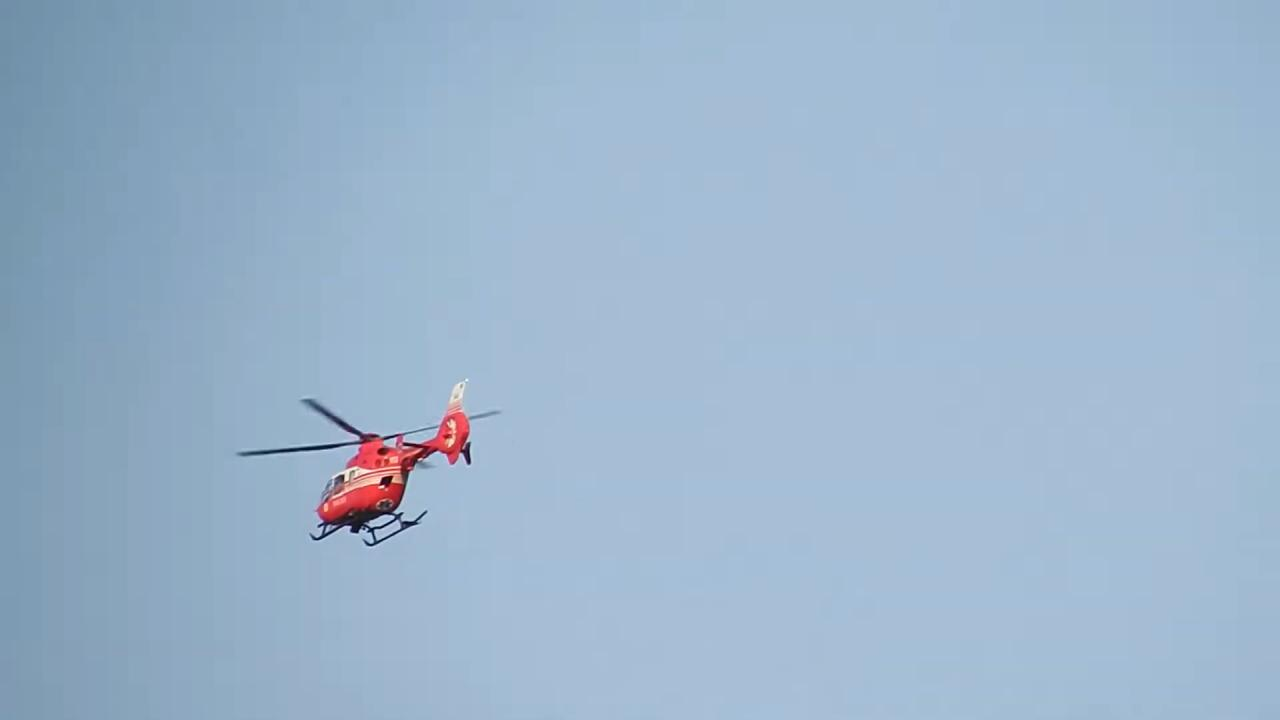Helicopter: (221, 360, 501, 560)
